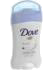grozi_45: (10, 0, 42, 69)
